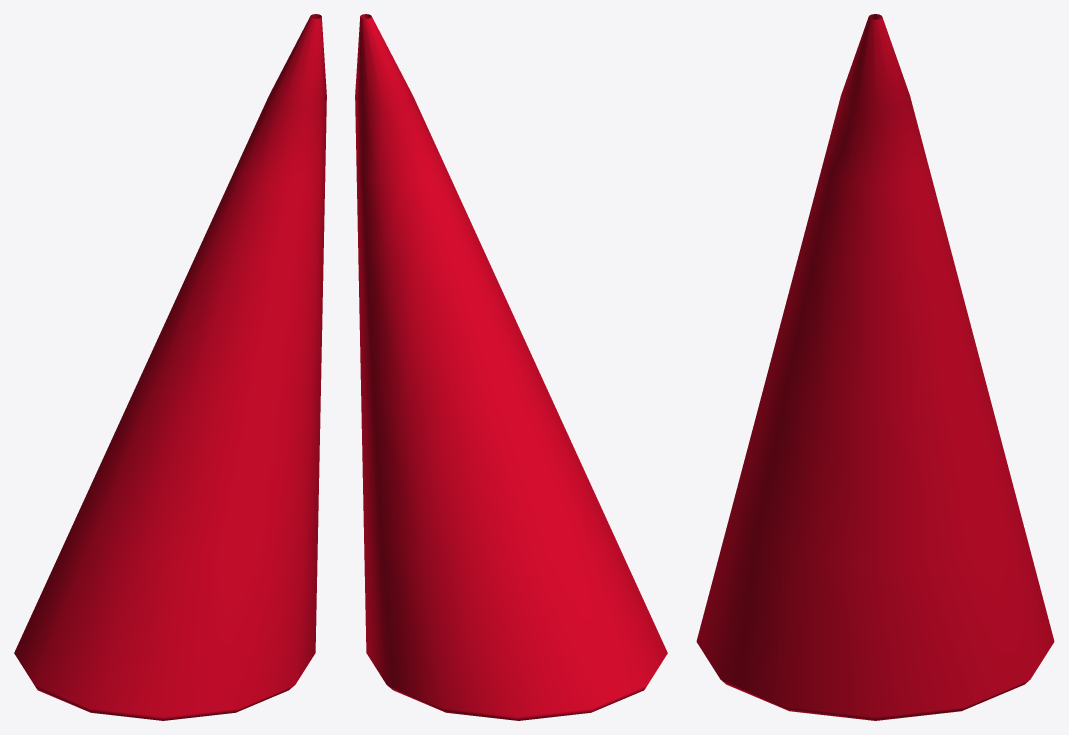
Rendered from VolumetricLight_Mesh.fbx.
The picture shows the model from 3 angles, left to right: view 1: azimuth 30°, elevation 25°; view 2: azimuth 150°, elevation 25°; view 3: azimuth 270°, elevation 25°; orthographic projection. The views are drawn at different scales.
Parts seen in each view (by area): view 1: Cylinder; view 2: Cylinder; view 3: Cylinder.
Part boxes in pixels (x1,y1,x2,y2): Cylinder: (14,14,326,720); Cylinder: (355,14,667,720); Cylinder: (696,14,1054,720).
Size of the model in its own units: 592 by 1187 by 535.
